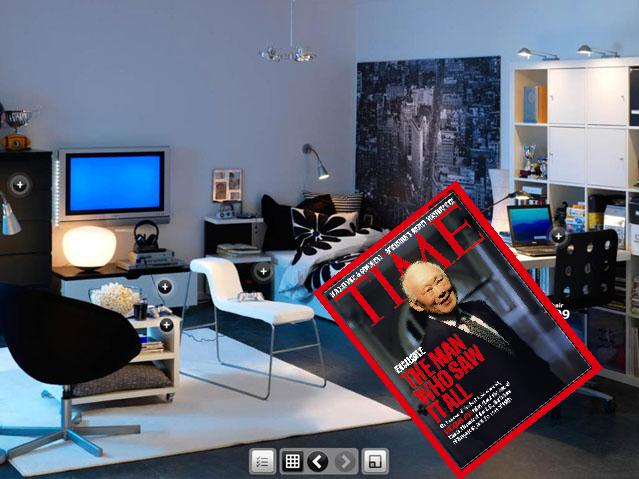times: (310, 179, 599, 479)
